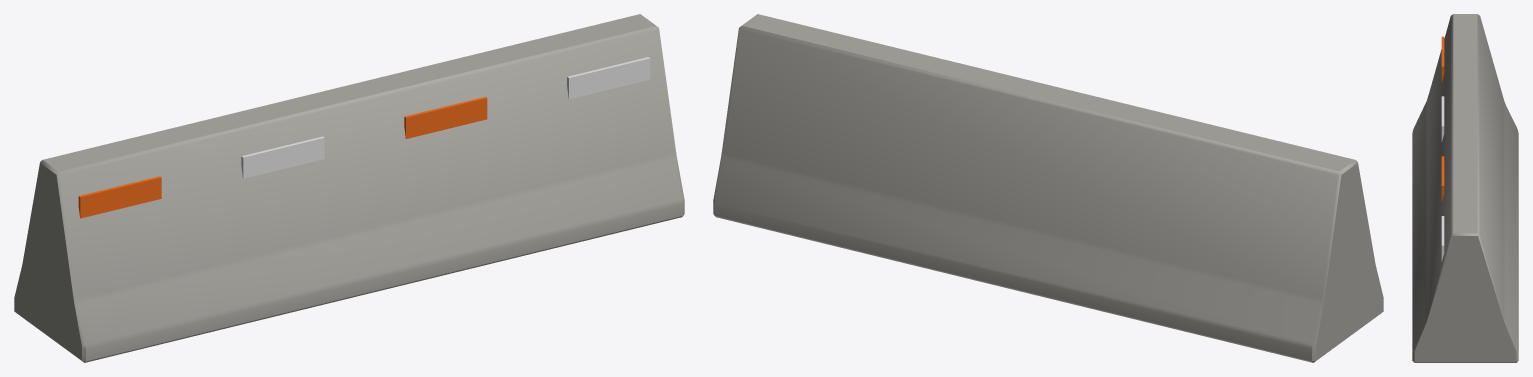
File: barrier.glb
3 renders of one model, left to right at view 1: azimuth 30°, elevation 25°; view 2: azimuth 150°, elevation 25°; view 3: azimuth 270°, elevation 25°, orthographic. The views are drawn at different scales.
Visible parts, largest first — view 1: Body_LOD0; view 2: Body_LOD0; view 3: Body_LOD0.
Boxes of the visible parts, x1,y1,x2,y2 form: Body_LOD0: (14,14,684,362); Body_LOD0: (713,14,1383,362); Body_LOD0: (1412,14,1518,362).
Size of the model in its own units: 2.96 by 0.81 by 0.6.
